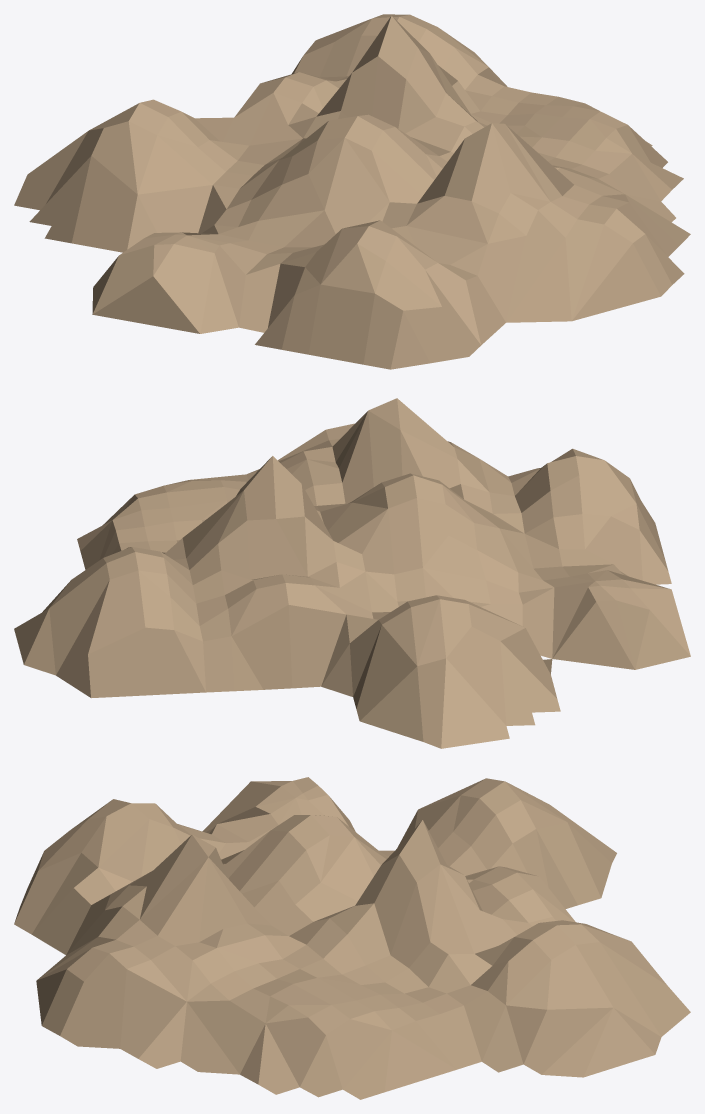
The model's file is rock_piles_1.FBX.
3 renders of one model, top to bottom at view 1: azimuth 30°, elevation 25°; view 2: azimuth 150°, elevation 25°; view 3: azimuth 270°, elevation 25°, orthographic. The views are drawn at different scales.
Visible parts, largest first — view 1: rock_piles_1; view 2: rock_piles_1; view 3: rock_piles_1.
Boxes of the visible parts, bbox=[...] form: rock_piles_1: bbox=[14, 14, 690, 369]; rock_piles_1: bbox=[14, 398, 690, 748]; rock_piles_1: bbox=[14, 777, 690, 1099].
Size of the model in its own units: 2755 by 727 by 2683.
